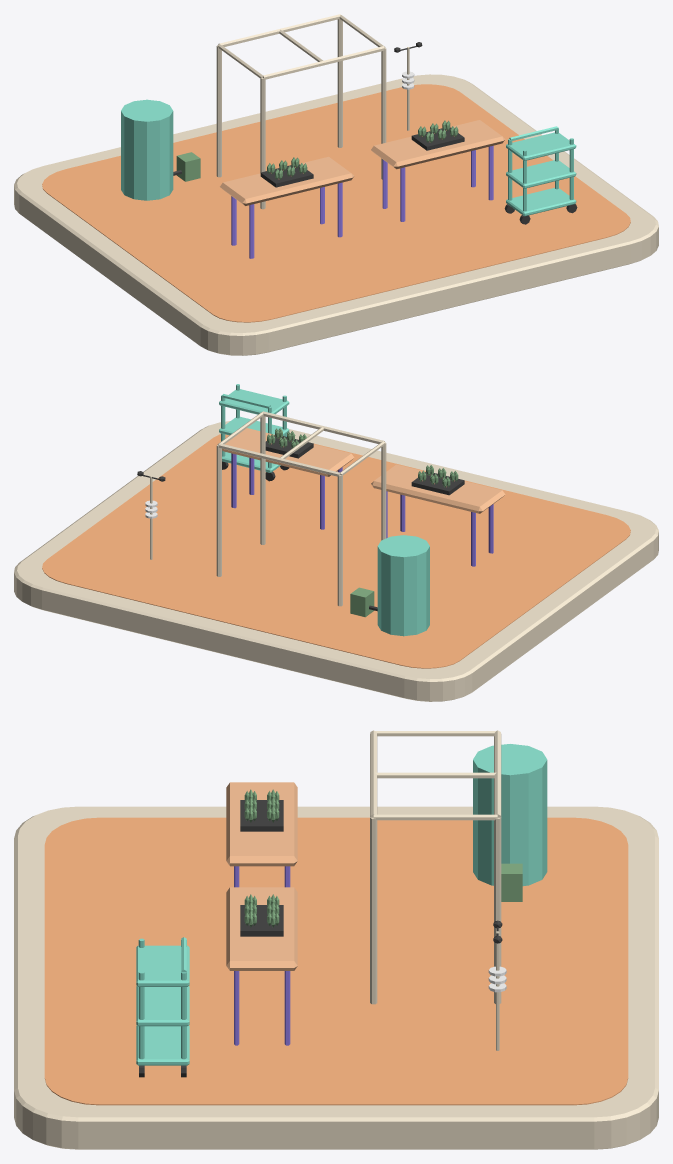
3 views of the same model, one above another, from view 1: azimuth 30°, elevation 25°; view 2: azimuth 150°, elevation 25°; view 3: azimuth 270°, elevation 25° (orthographic). The views are drawn at different scales.
Visible parts, largest first — view 1: COM-02 Floor Surface, COM-01 Rounded Base Direct, Water tank, Rounded table top, Rounded table top.001, Tray.004, Tray.003, Tray.002, Post.001, Post.003, Roof rail, Roof rail.001 (+5 smaller); view 2: COM-02 Floor Surface, COM-01 Rounded Base Direct, Water tank, Rounded table top, Rounded table top.001, Tray.004, Post.001, Post.003, Post.002, Roof rail.001, Roof rail, Pump (+4 smaller); view 3: COM-02 Floor Surface, COM-01 Rounded Base Direct, Water tank, Rounded table top, Rounded table top.001, Tray.004, Tray.003, Tray.002, Post.002, Post.003, Tray.001, Tray (+4 smaller).
Boxes of the visible parts, <box> form: COM-02 Floor Surface: <box>42,84,630,322</box>; COM-01 Rounded Base Direct: <box>14,74,658,355</box>; Water tank: <box>121,99,173,200</box>; Rounded table top: <box>220,156,354,205</box>; Rounded table top.001: <box>371,120,505,169</box>; Tray.004: <box>506,132,576,160</box>; Tray.003: <box>506,160,576,188</box>; Tray.002: <box>506,187,576,216</box>; Post.001: <box>216,45,221,177</box>; Post.003: <box>337,19,342,147</box>; Roof rail: <box>263,46,384,79</box>; Roof rail.001: <box>218,14,340,46</box>; COM-02 Floor Surface: <box>42,434,630,668</box>; COM-01 Rounded Base Direct: <box>14,421,658,701</box>; Water tank: <box>377,535,429,636</box>; Rounded table top: <box>371,464,505,513</box>; Rounded table top.001: <box>222,428,354,476</box>; Tray.004: <box>219,389,289,414</box>; Post.001: <box>337,475,342,606</box>; Post.003: <box>216,445,221,576</box>; Post.002: <box>260,416,265,544</box>; Roof rail.001: <box>218,443,340,476</box>; Roof rail: <box>262,411,384,444</box>; Pump: <box>350,587,374,617</box>; COM-02 Floor Surface: <box>44,817,628,1105</box>; COM-01 Rounded Base Direct: <box>14,806,658,1149</box>; Water tank: <box>473,744,547,886</box>; Rounded table top: <box>226,782,297,866</box>; Rounded table top.001: <box>226,887,297,970</box>; Tray.004: <box>136,945,189,986</box>; Tray.003: <box>136,986,189,1026</box>; Tray.002: <box>136,1025,189,1065</box>; Post.002: <box>370,817,377,1004</box>; Post.003: <box>494,817,501,1003</box>; Tray.001: <box>240,905,283,936</box>; Tray: <box>240,800,283,831</box>.
Bounding box in the file's own units: 6 × 1.98 × 5.2.
1 material, 1 textured.
